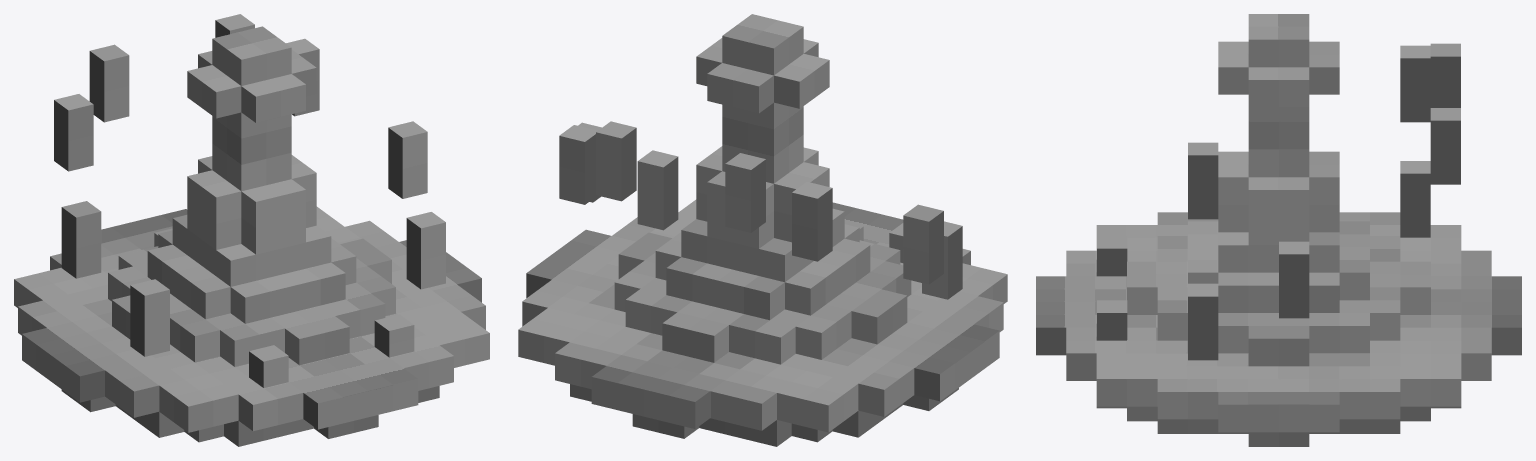
File: ws3tri.obj
The picture shows the model from 3 angles, left to right: view 1: azimuth 30°, elevation 25°; view 2: azimuth 150°, elevation 25°; view 3: azimuth 270°, elevation 25°; orthographic projection. The views are drawn at different scales.
Visible parts, largest first — view 1: Cube.002_Cube.004; view 2: Cube.002_Cube.004; view 3: Cube.002_Cube.004.
Boxes of the visible parts, left/top/right/bottom form: Cube.002_Cube.004: left=14, top=14, right=489, bottom=446; Cube.002_Cube.004: left=518, top=14, right=1007, bottom=446; Cube.002_Cube.004: left=1036, top=14, right=1521, bottom=446.
Size of the model in its own units: 0.9278 by 0.6959 by 0.9278.
